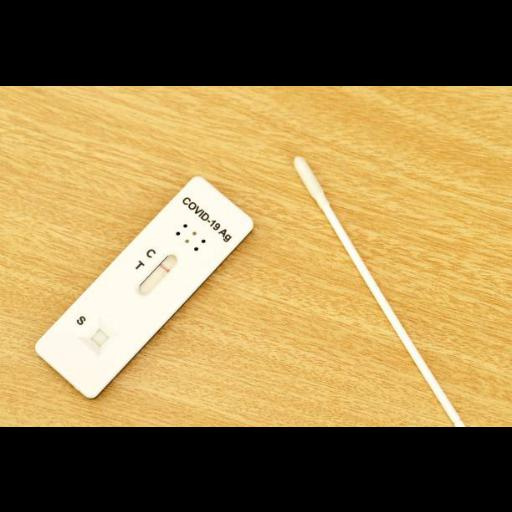Neg: (32, 173, 257, 400)
